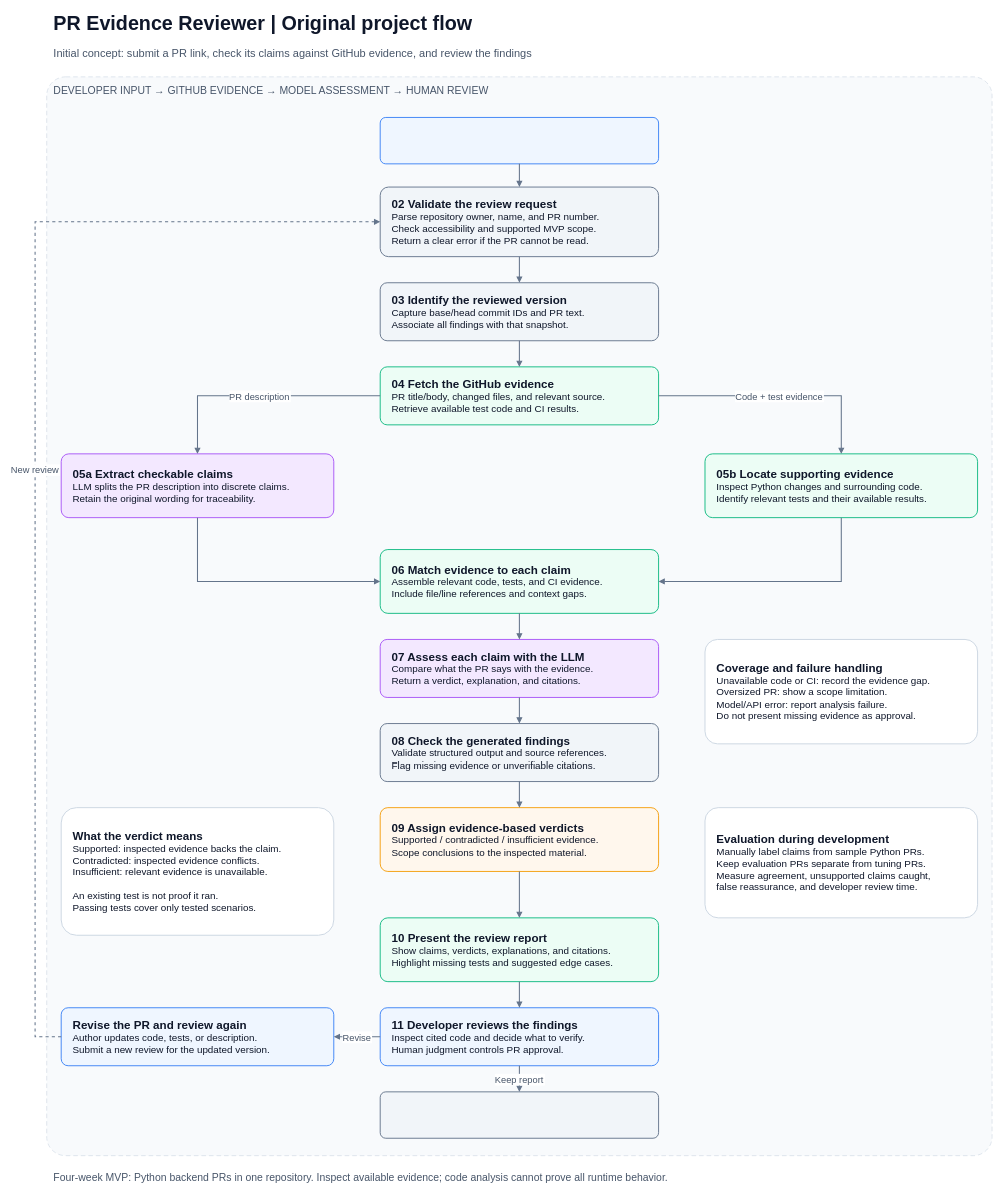
Image size: 1002x1203. Some labels were removed from this diagram. The box of each missing label's shape, as (x1, y1, x2, y2) in pixels:
01 Submit a GitHub PR link Developer opens the web app and pastes the URL.: (379, 117, 659, 164)
12 Retain the review result Save report, reviewed commits, and feedback.: (379, 1091, 659, 1138)
